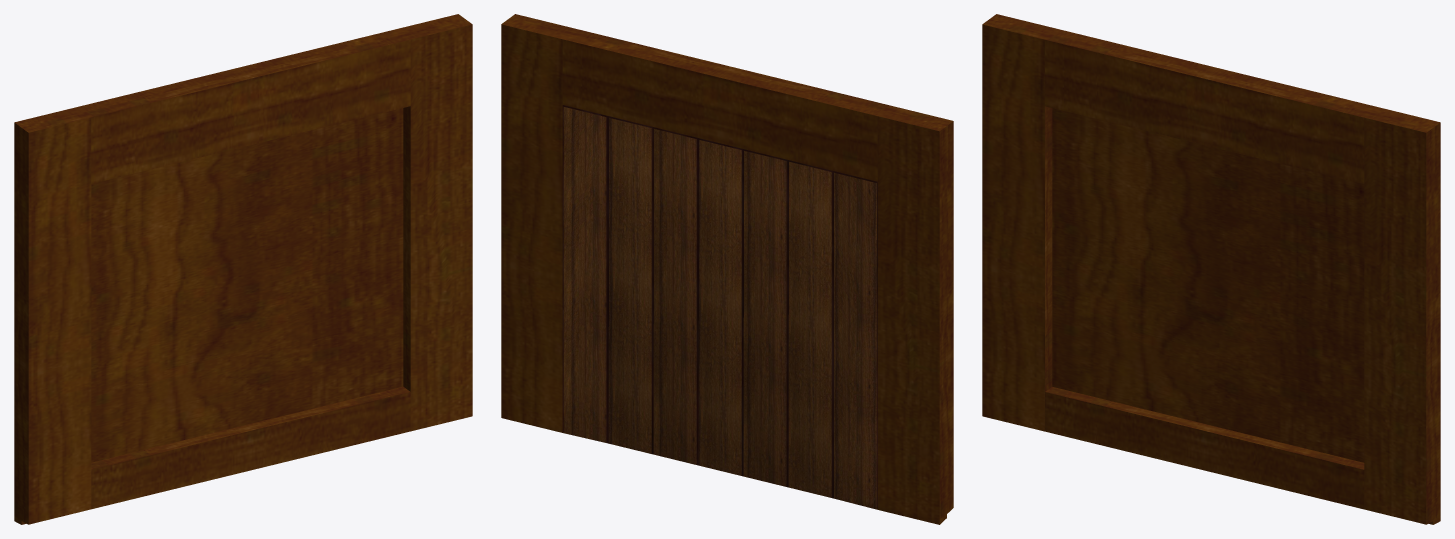
The model's file is StableDoorUpper01.fbx.
The picture shows the model from 3 angles, left to right: view 1: azimuth 30°, elevation 25°; view 2: azimuth 150°, elevation 25°; view 3: azimuth 330°, elevation 25°; orthographic projection.
Parts seen in each view (by area): view 1: default; view 2: default; view 3: default.
Boxes of the visible parts, box(x1,y1,x2,y2) form: default: box(14, 14, 472, 524); default: box(501, 14, 953, 524); default: box(982, 14, 1440, 524).
Bounding box in the file's own units: 113 × 96.82 × 6.29.
